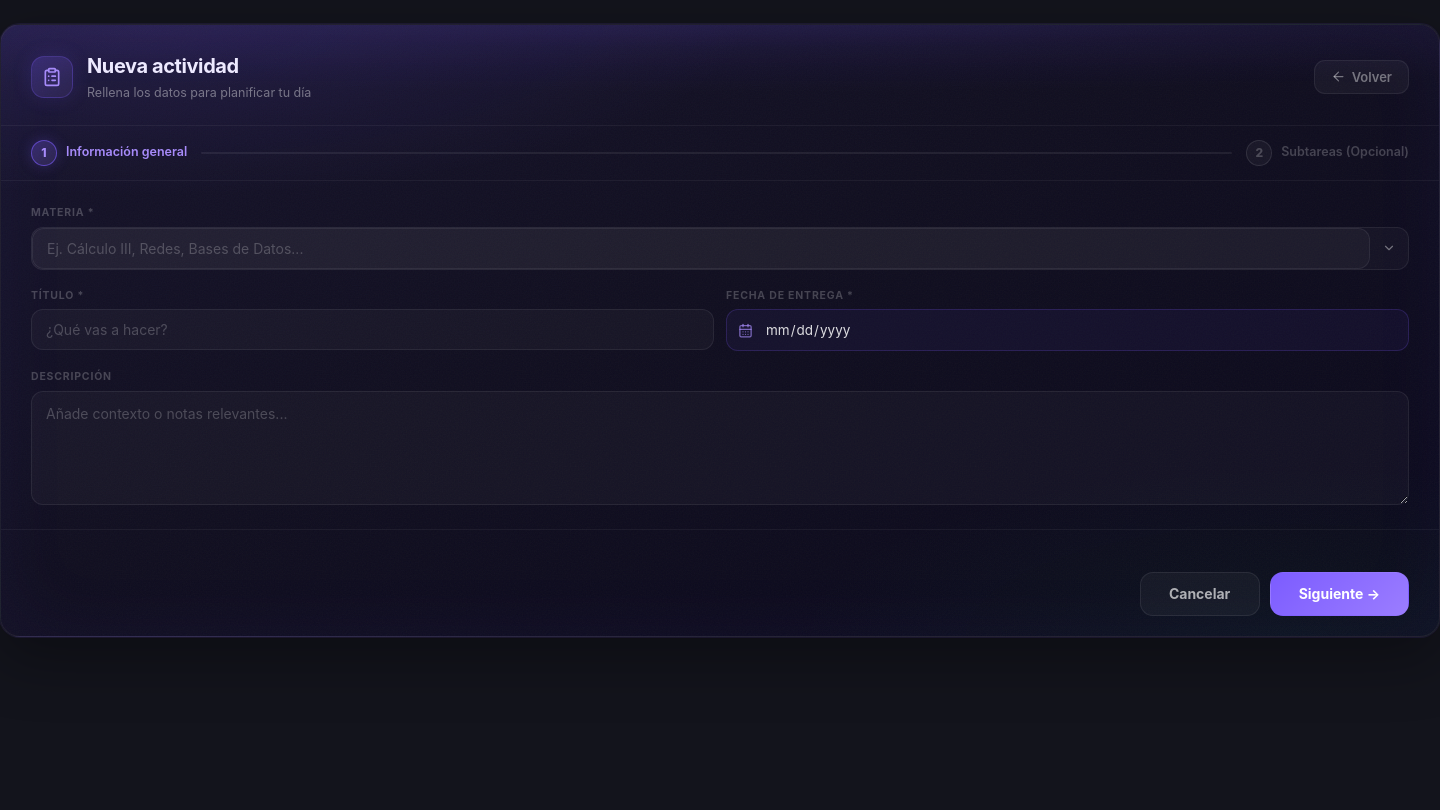
Test case: CreateActivityView — capacidad y modo claro › muestra el indicador de capacidad/conflicto al elegir una fecha cargada
Type "Mate" into the field with test id "create-activity-subject-input".
click(701, 248); type("Mate")  # box [32,228,1370,268]
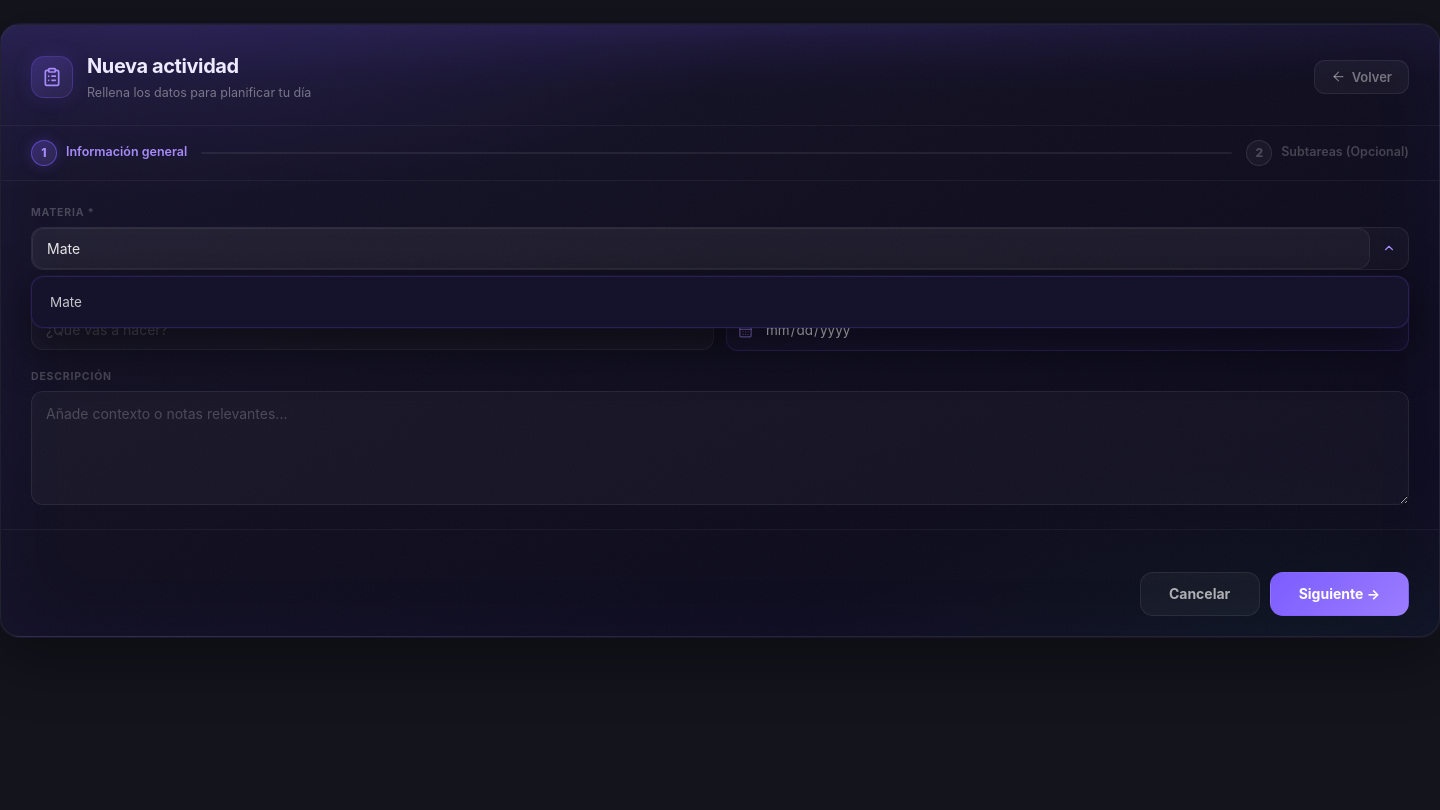
Type "Tarea" into the field with test id "create-activity-title-input".
click(372, 330); type("Tarea")  # box [31,309,714,350]
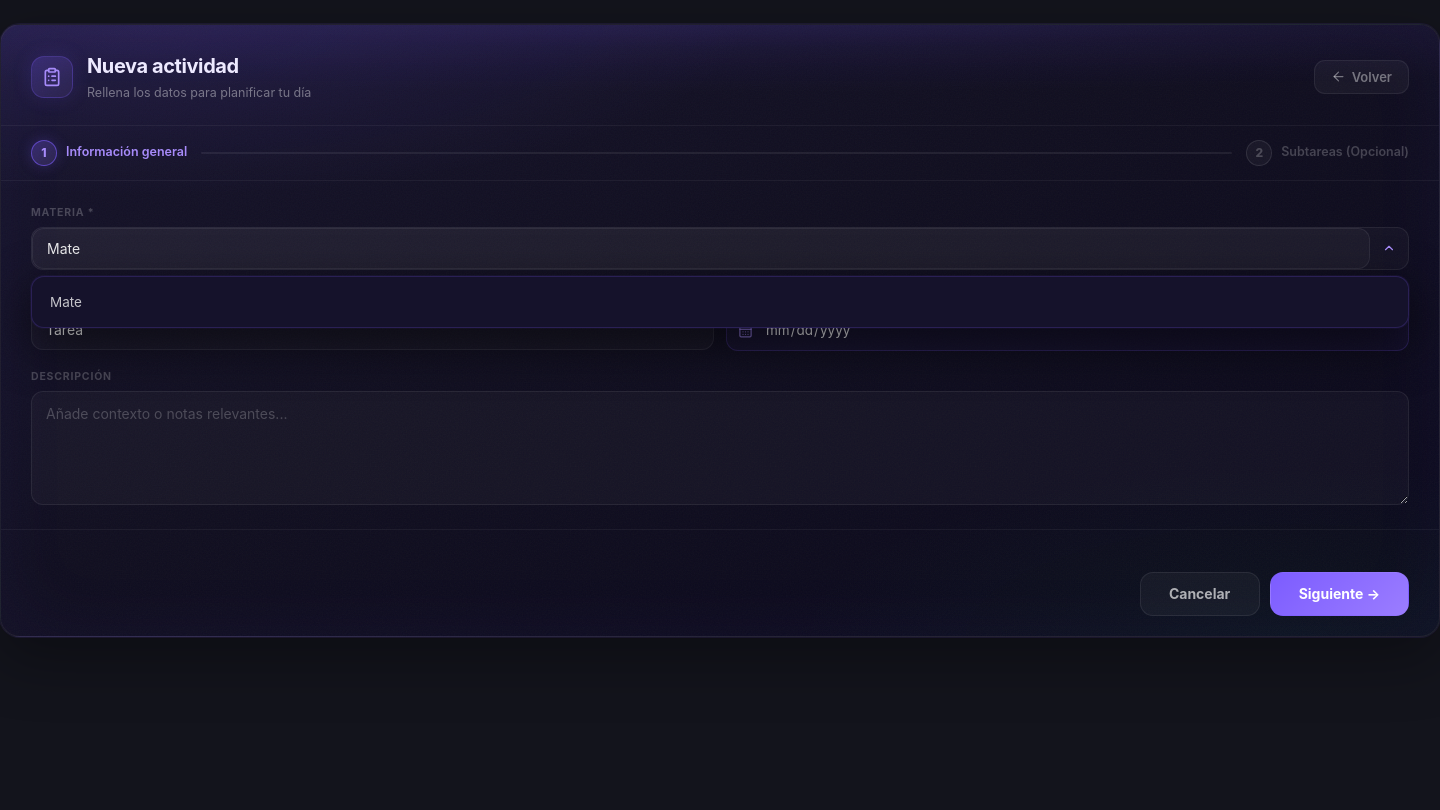
Type "2026-12-31" into the date field with test id "create-activity-due-date-input".
click(1068, 330); type("2026-12-31")  # box [726,309,1409,351]
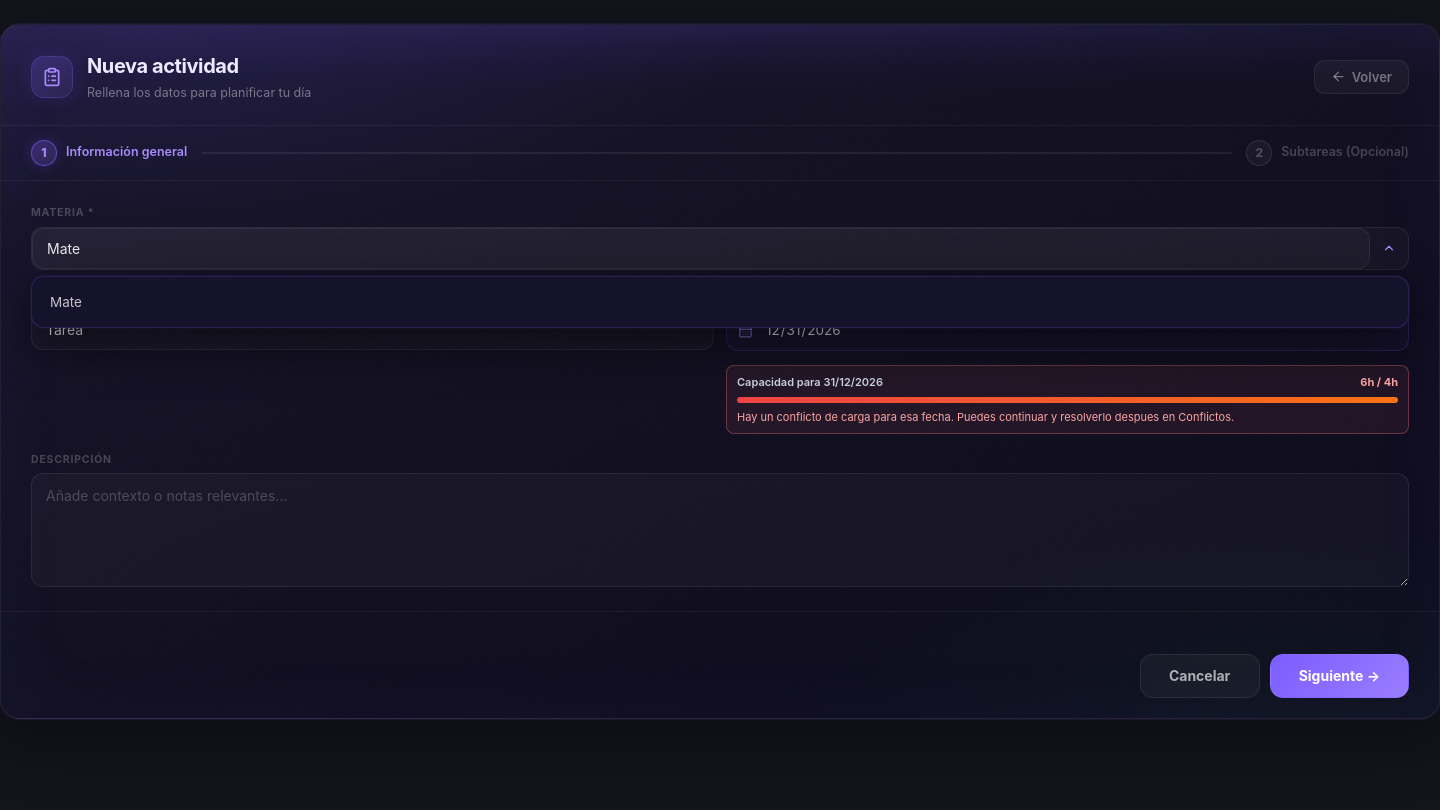
Expected: the text "Capacidad para 31/12/2026" is shown, [737,374,883,391]
